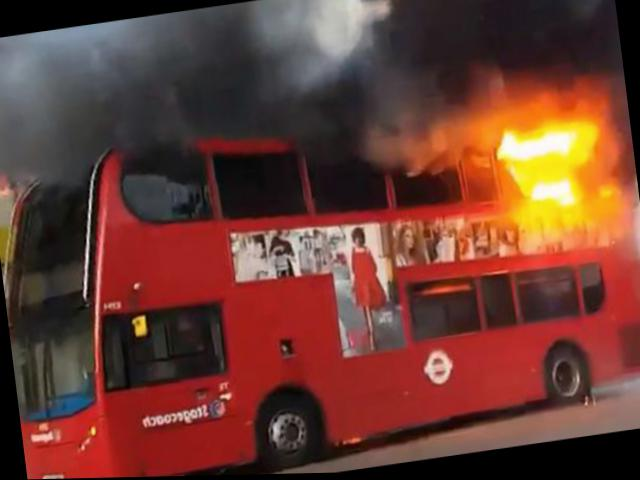fire: (484, 82, 626, 243)
